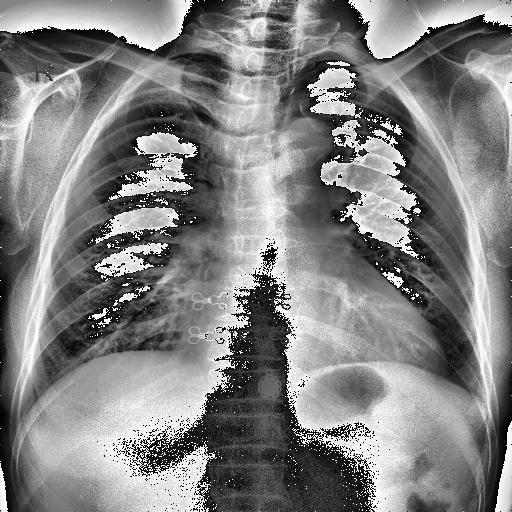0- Aortic enlargement: (277, 116, 335, 186), (277, 116, 334, 166), (288, 115, 332, 165)
3- Cardiomegaly: (198, 300, 444, 386), (196, 313, 446, 385), (196, 304, 446, 374)
